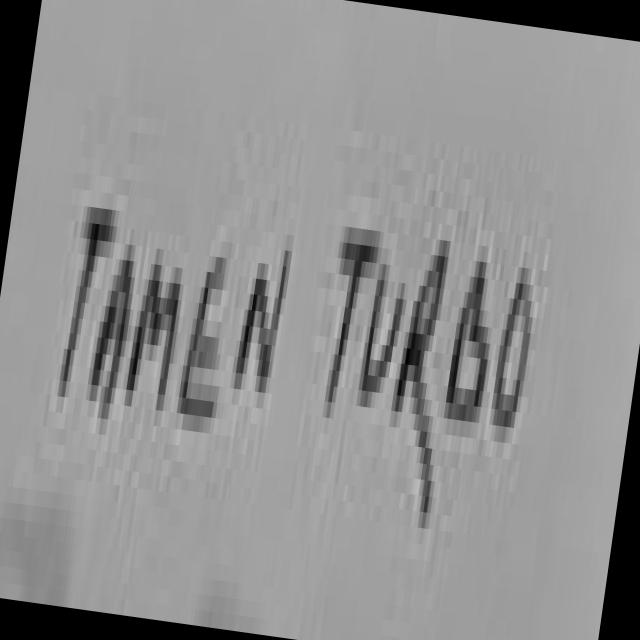A: (78, 232, 142, 452)
B: (431, 204, 516, 469)
E: (170, 211, 250, 461)
M: (115, 206, 198, 454)
N: (218, 190, 314, 449)
O: (477, 210, 558, 475)
R: (377, 205, 473, 530)
T: (16, 130, 145, 477), (308, 148, 392, 462)
U: (351, 234, 416, 428)
